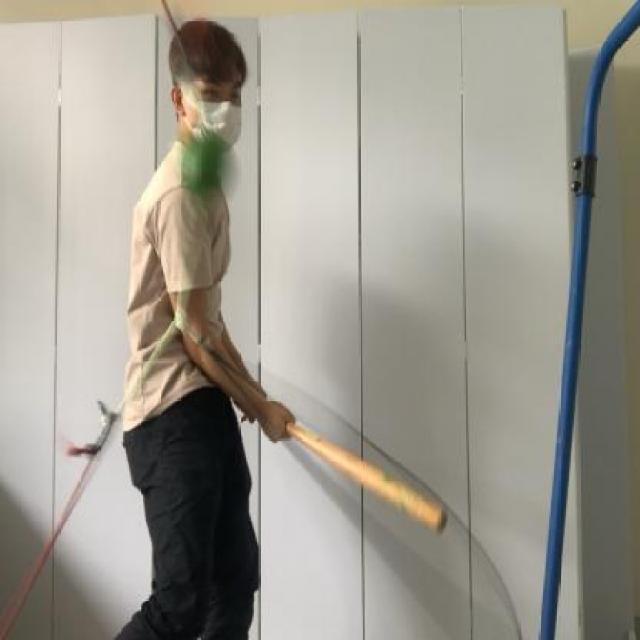baseball: (170, 120, 245, 214)
